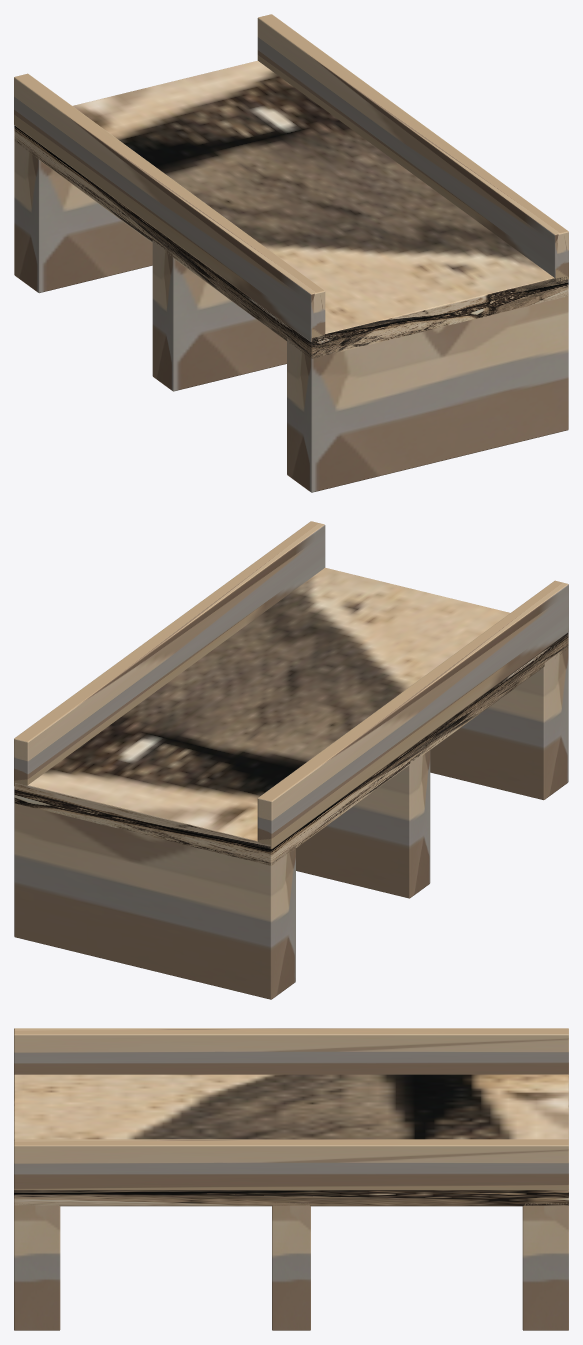
File: bridge_stone_12x6m_LOD2.glb
The picture shows the model from 3 angles, top to bottom: view 1: azimuth 30°, elevation 25°; view 2: azimuth 150°, elevation 25°; view 3: azimuth 270°, elevation 25°; orthographic projection. The views are drawn at different scales.
Visible parts, largest first — view 1: LOD2_Deck, LOD2_Support, LOD2_Parapet, LOD2_Parapet.001, LOD2_Support.002, LOD2_Support.001; view 2: LOD2_Deck, LOD2_Support.002, LOD2_Parapet, LOD2_Parapet.001, LOD2_Support, LOD2_Support.001; view 3: LOD2_Deck, LOD2_Parapet.001, LOD2_Parapet, LOD2_Support.002, LOD2_Support, LOD2_Support.001.
Part boxes in pixels (<box>): LOD2_Deck: <box>14,60,568,358</box>; LOD2_Support: <box>287,293,568,492</box>; LOD2_Parapet: <box>14,73,325,342</box>; LOD2_Parapet.001: <box>257,14,568,281</box>; LOD2_Support.002: <box>14,138,152,293</box>; LOD2_Support.001: <box>152,240,286,391</box>; LOD2_Deck: <box>14,567,568,865</box>; LOD2_Support.002: <box>14,800,295,999</box>; LOD2_Parapet: <box>257,580,568,849</box>; LOD2_Parapet.001: <box>14,521,325,788</box>; LOD2_Support: <box>430,645,568,800</box>; LOD2_Support.001: <box>296,750,430,898</box>; LOD2_Deck: <box>14,1074,568,1206</box>; LOD2_Parapet.001: <box>14,1139,568,1190</box>; LOD2_Parapet: <box>14,1028,568,1074</box>; LOD2_Support.002: <box>522,1203,568,1330</box>; LOD2_Support: <box>14,1202,60,1330</box>; LOD2_Support.001: <box>272,1203,310,1330</box>.
Bounding box in the file's own units: 6.02 × 4.43 × 12.
Materials: 2 (2 with a texture image).
